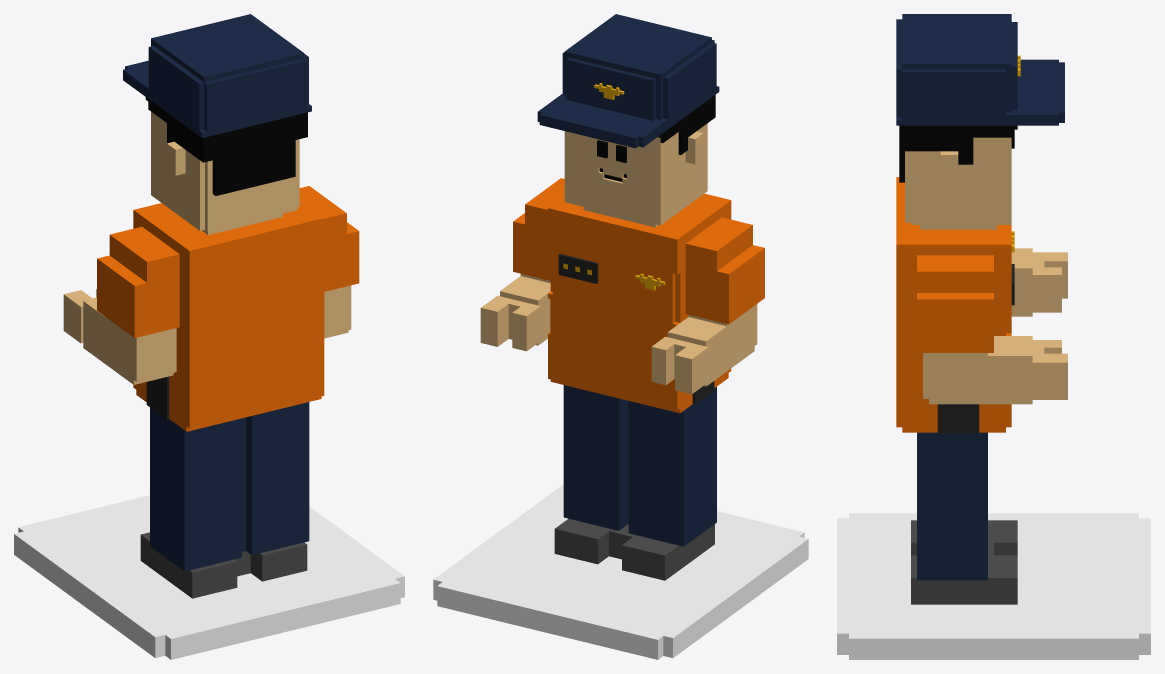
File: character26.glb
The picture shows the model from 3 angles, left to right: view 1: azimuth 30°, elevation 25°; view 2: azimuth 150°, elevation 25°; view 3: azimuth 270°, elevation 25°; orthographic projection. The views are drawn at different scales.
Parts seen in each view (by area): view 1: Object_2; view 2: Object_2; view 3: Object_2.
Boxes of the visible parts, x1,y1,x2,y2 form: Object_2: [14, 14, 404, 659]; Object_2: [433, 14, 808, 659]; Object_2: [837, 14, 1150, 659].
Size of the model in its own units: 10 by 20.8 by 10.6.
1 material, 1 textured.
